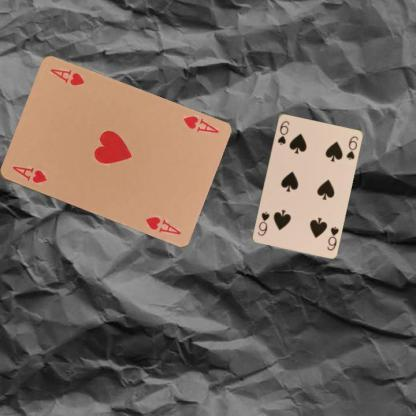6s: (275, 118, 291, 146), (324, 224, 340, 251)
Ah: (9, 162, 49, 185), (180, 113, 220, 135)
